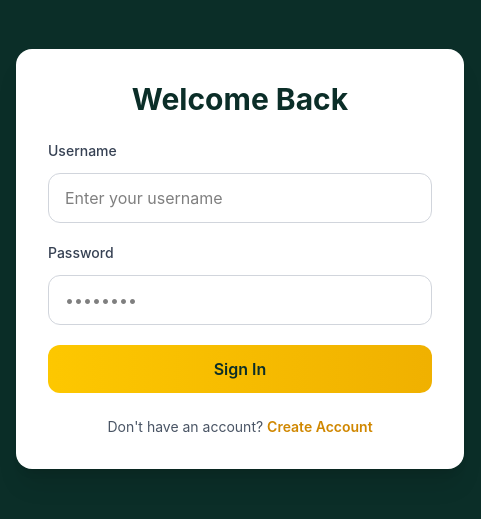
Scenario: login shows the backend error for invalid credentials
Type "test-worker" into the field with placeholder "Enter your username". click: [240, 198]
box: [48,173,432,223]
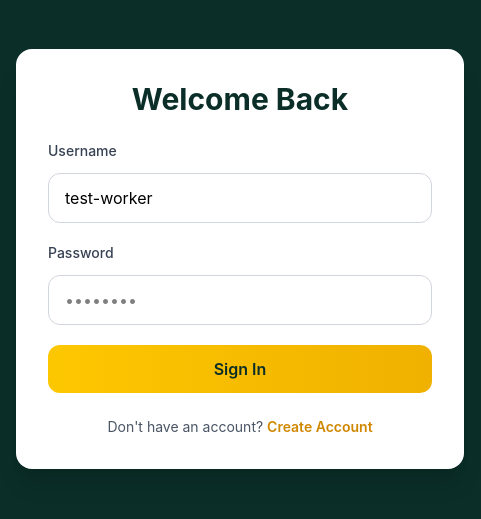
Type "wrong" into the password field with placeholder "••••••••". click: [240, 300]
box: [48,275,432,325]
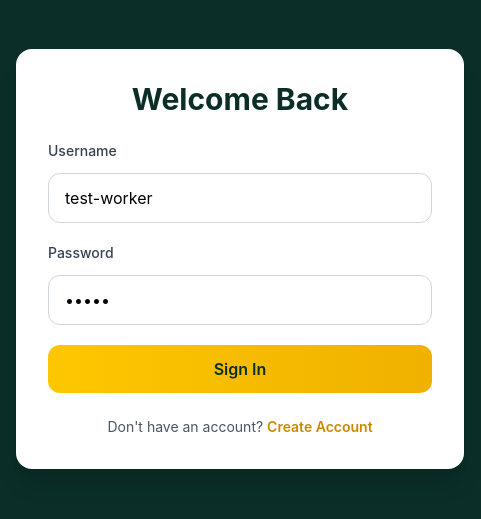
Click the button "Sign In". click: [240, 369]
box: [48,345,432,393]
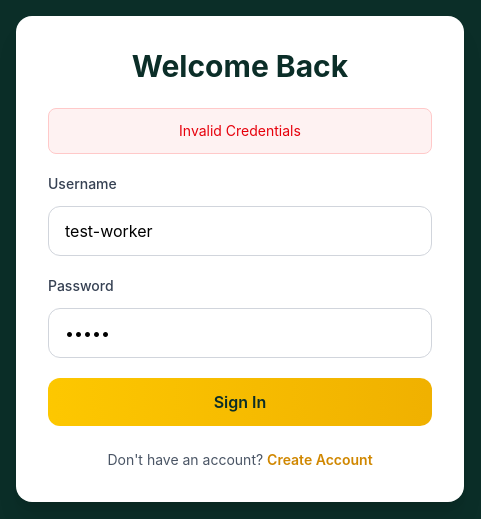
Now the text "Invalid Credentials" is shown, box [179,122,301,139]
